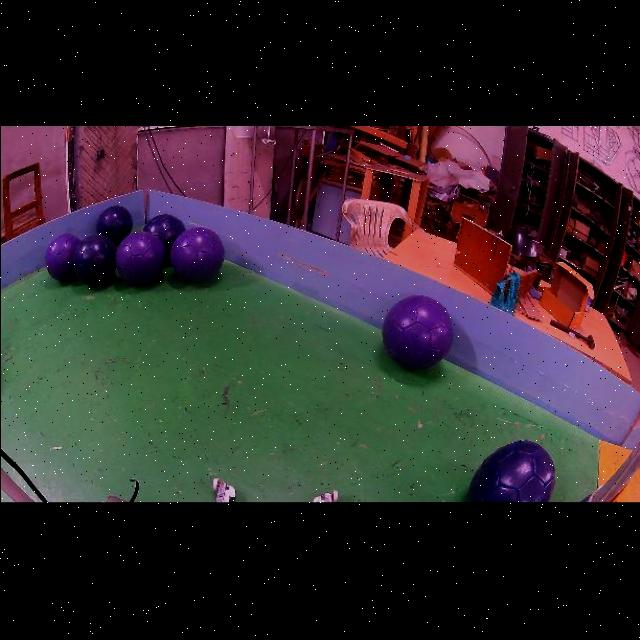B: (466, 439, 554, 500), (71, 232, 116, 285), (142, 212, 185, 261), (95, 204, 132, 244)
P: (381, 294, 452, 367), (169, 226, 223, 280), (115, 230, 165, 283), (44, 231, 79, 280)
